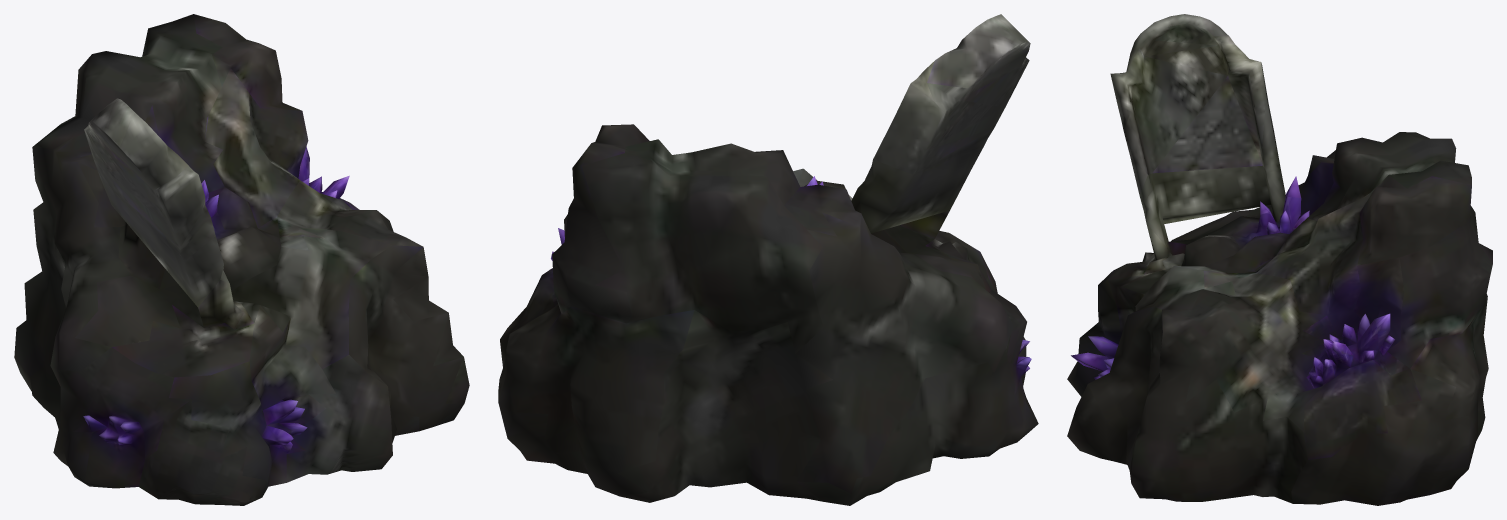
Rendered from prop_node_ore_seam_tin.glb.
3 renders of one model, left to right at view 1: azimuth 30°, elevation 25°; view 2: azimuth 150°, elevation 25°; view 3: azimuth 270°, elevation 25°, orthographic. The views are drawn at different scales.
Visible parts, largest first — view 1: tripo_node_0bf5bb75-011f-4941-bb16-5c0978e515fd; view 2: tripo_node_0bf5bb75-011f-4941-bb16-5c0978e515fd; view 3: tripo_node_0bf5bb75-011f-4941-bb16-5c0978e515fd.
Boxes of the visible parts, left/top/right/bottom form: tripo_node_0bf5bb75-011f-4941-bb16-5c0978e515fd: left=14, top=14, right=469, bottom=505; tripo_node_0bf5bb75-011f-4941-bb16-5c0978e515fd: left=498, top=14, right=1038, bottom=505; tripo_node_0bf5bb75-011f-4941-bb16-5c0978e515fd: left=1067, top=14, right=1492, bottom=505.
Bounding box in the file's own units: 0.9786 × 0.8964 × 0.998.
Materials: 1 (1 with a texture image).
